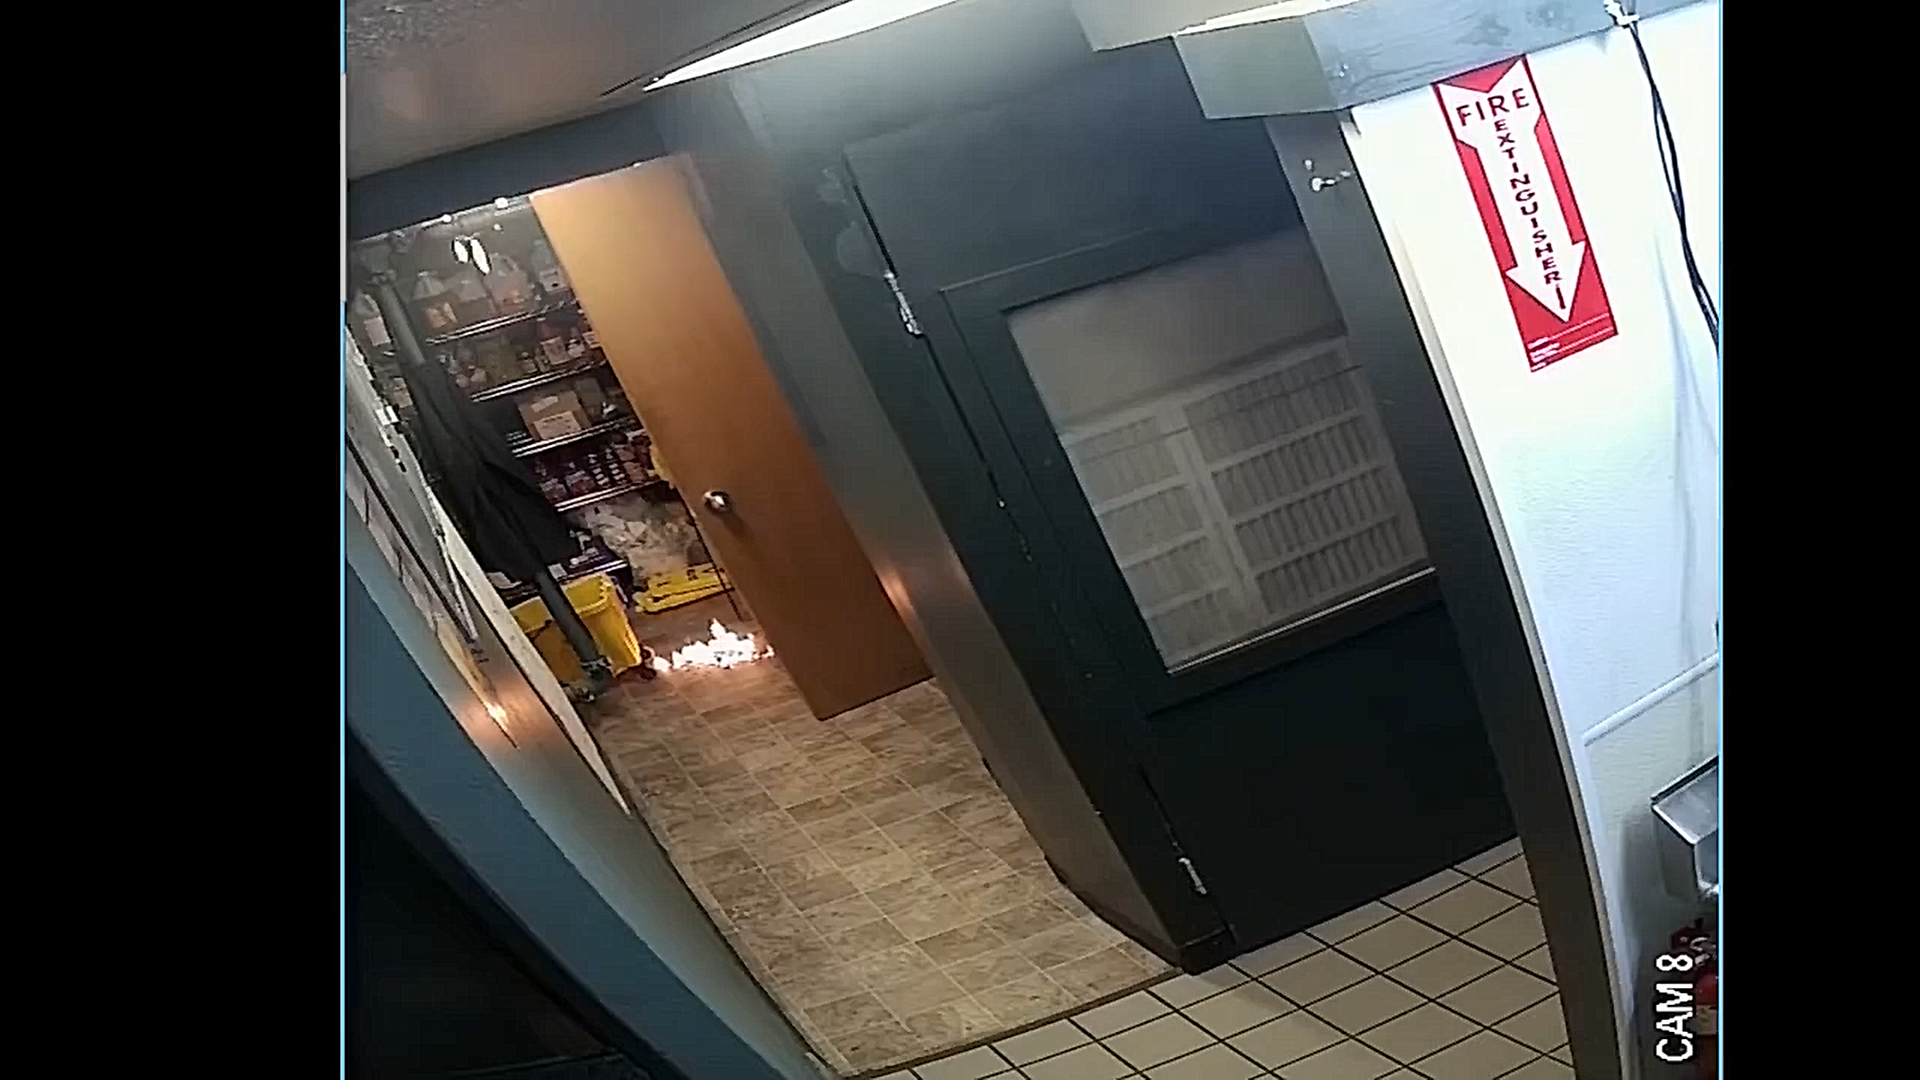fire: (636, 621, 782, 678)
